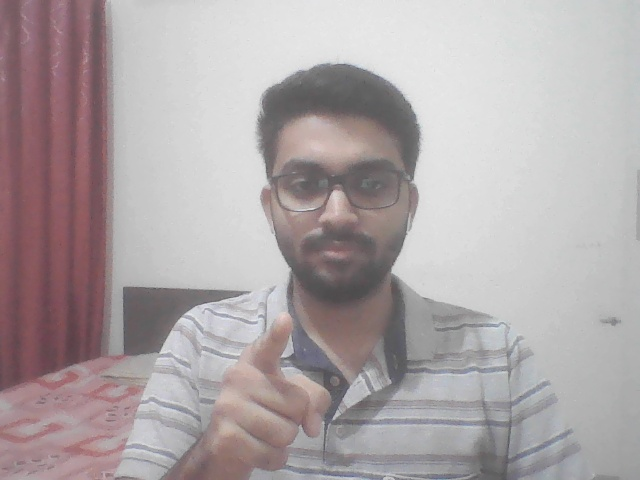you: (175, 302, 348, 476)
